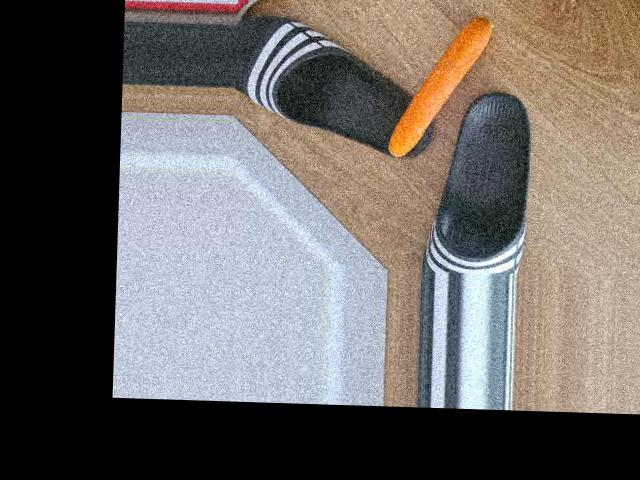carrot: (391, 18, 495, 161)
